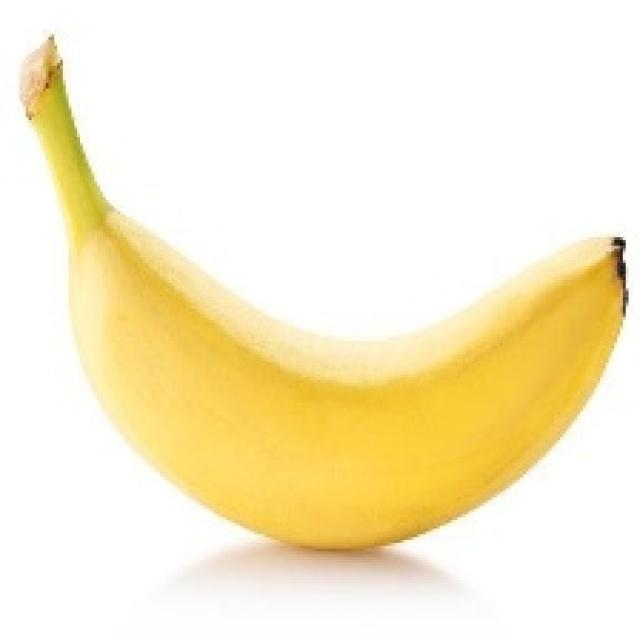Banana: (17, 31, 629, 552)
